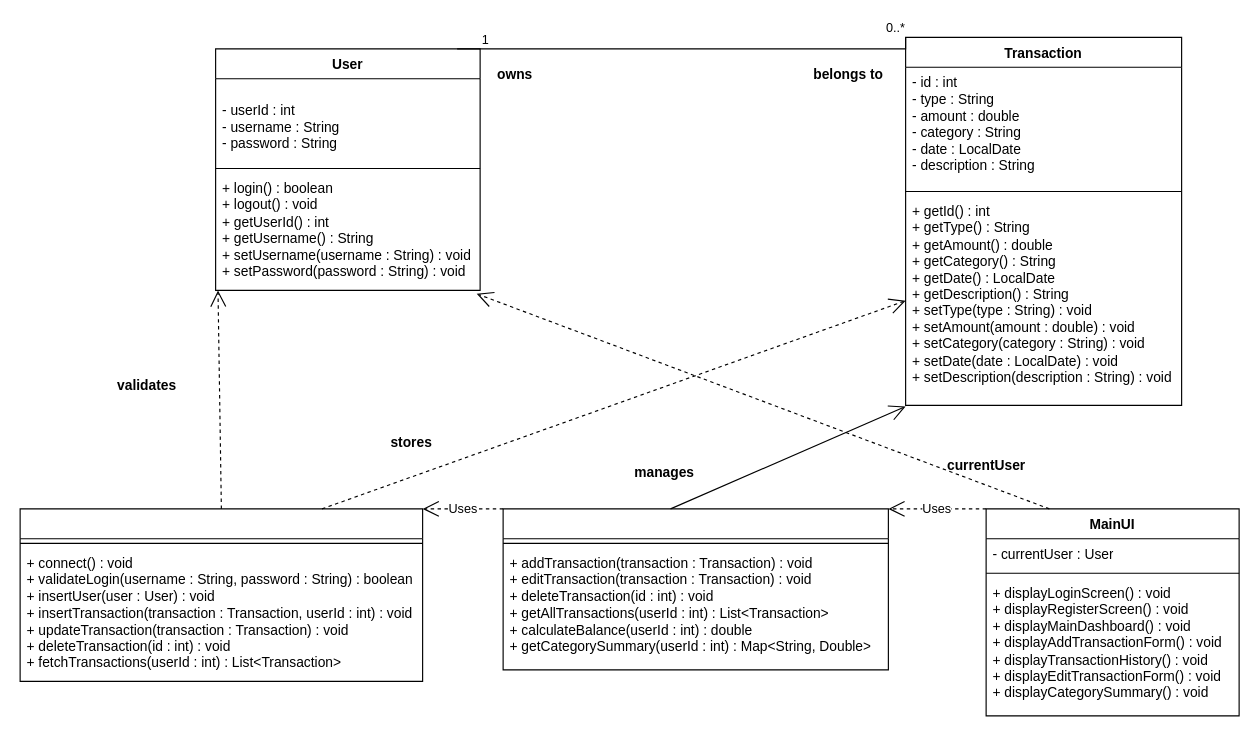
Some shapes in this 1259 by 738 pixel diagram are drawn without their labels. The shapes that lost their labels are listed below. From the top down, each one's box as (x1, y1, x2, y2) in pixels, then its label:
(19, 508, 423, 681): DatabaseManager
(502, 508, 888, 670): TransactionManager
